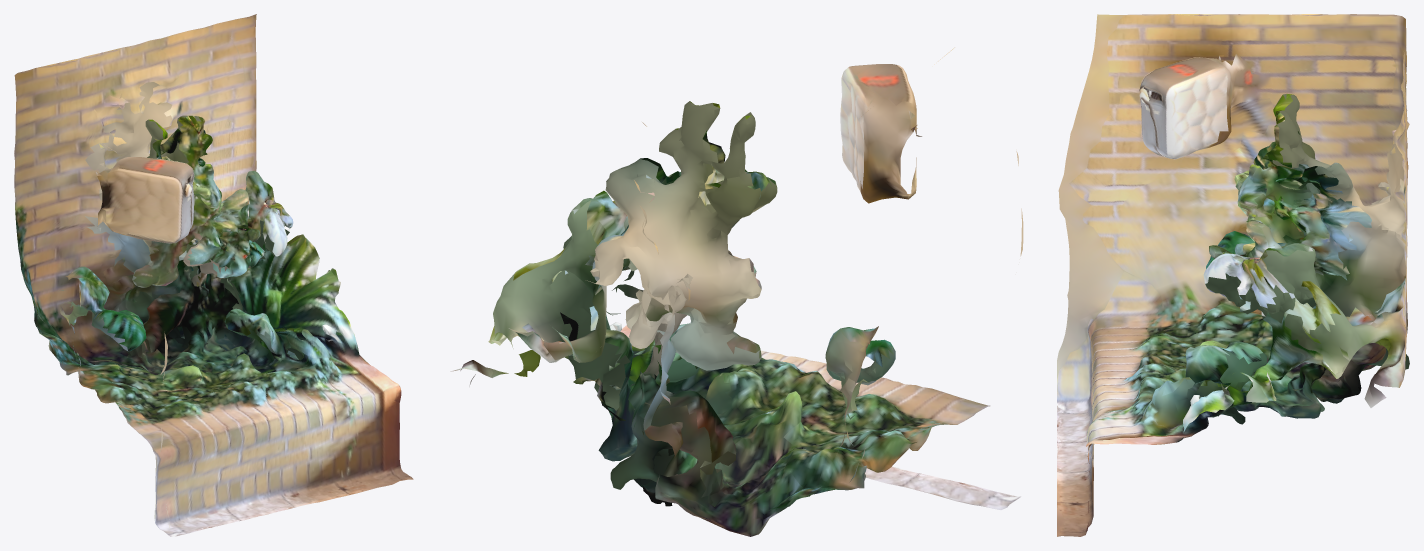
File: S005_IndoorPlants.glb
3 renders of one model, left to right at view 1: azimuth 30°, elevation 25°; view 2: azimuth 150°, elevation 25°; view 3: azimuth 270°, elevation 25°, orthographic. The views are drawn at different scales.
Parts seen in each view (by area): view 1: Object_4; view 2: Object_4; view 3: Object_4.
Part boxes in pixels (<box>): Object_4: <box>14,14,413,536</box>; Object_4: <box>450,47,1023,536</box>; Object_4: <box>1057,14,1409,536</box>.
Size of the model in its own units: 1.39 by 1.88 by 1.54.
1 material, 1 textured.
